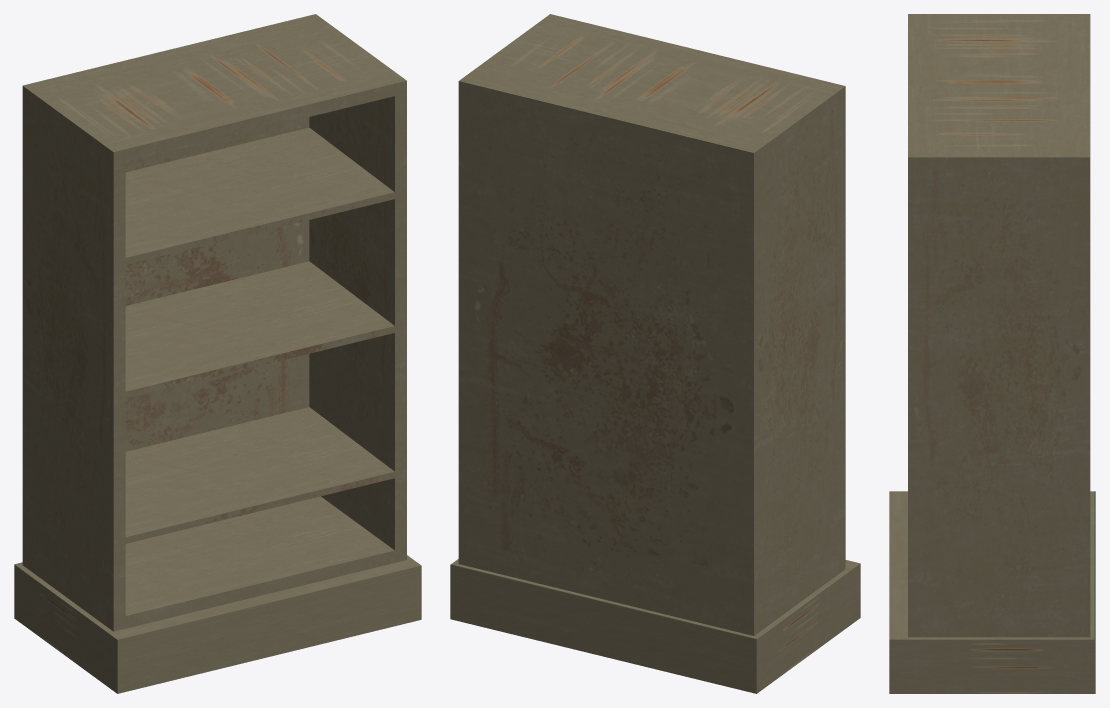
The model's file is pill shelf.FBX.
The picture shows the model from 3 angles, left to right: view 1: azimuth 30°, elevation 25°; view 2: azimuth 150°, elevation 25°; view 3: azimuth 270°, elevation 25°; orthographic projection.
Parts seen in each view (by area): view 1: Box011; view 2: Box011; view 3: Box011.
Boxes of the visible parts, <box> form: Box011: <box>14,14,421,693</box>; Box011: <box>450,14,860,693</box>; Box011: <box>889,14,1095,693</box>.
Size of the model in its own units: 1.08 by 1.8 by 0.6323.
1 material, 1 textured.
